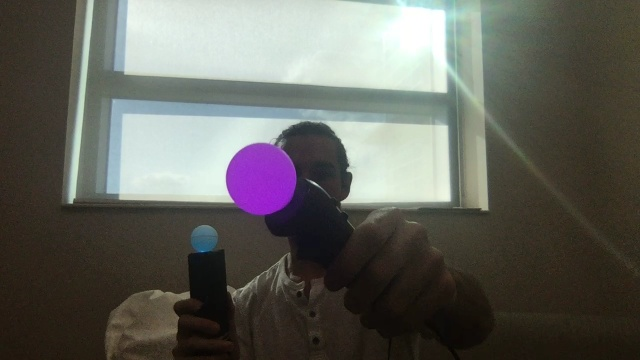wand: (228, 143, 297, 215), (194, 227, 219, 251)
